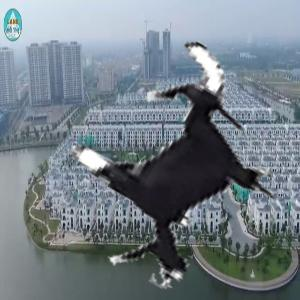drone: (38, 34, 300, 296)
